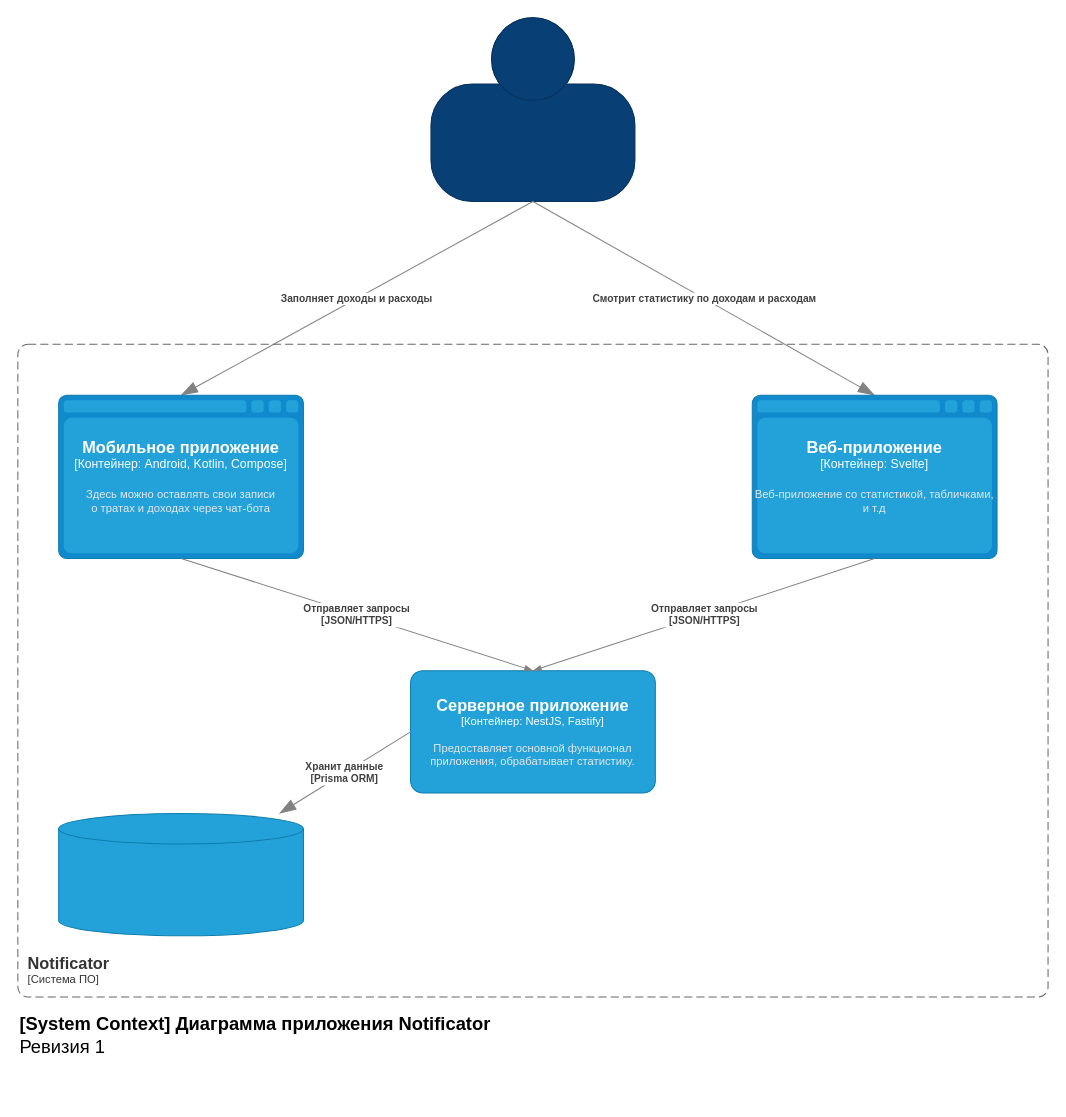
Some shapes in this 1066 by 1117 pixel diagram are drawn without their labels. The shapes that lost their labels are listed below. From the top down, each one's centre as x and y in pixels, then its label:
At point 532,109: "Пользователь [Пользователь] Пользователь приложения, записывает расходы и доходы".
At point 180,874: "База данных [Контейенер: PostgreSQL 15] Основная база данных, хранит всё".
